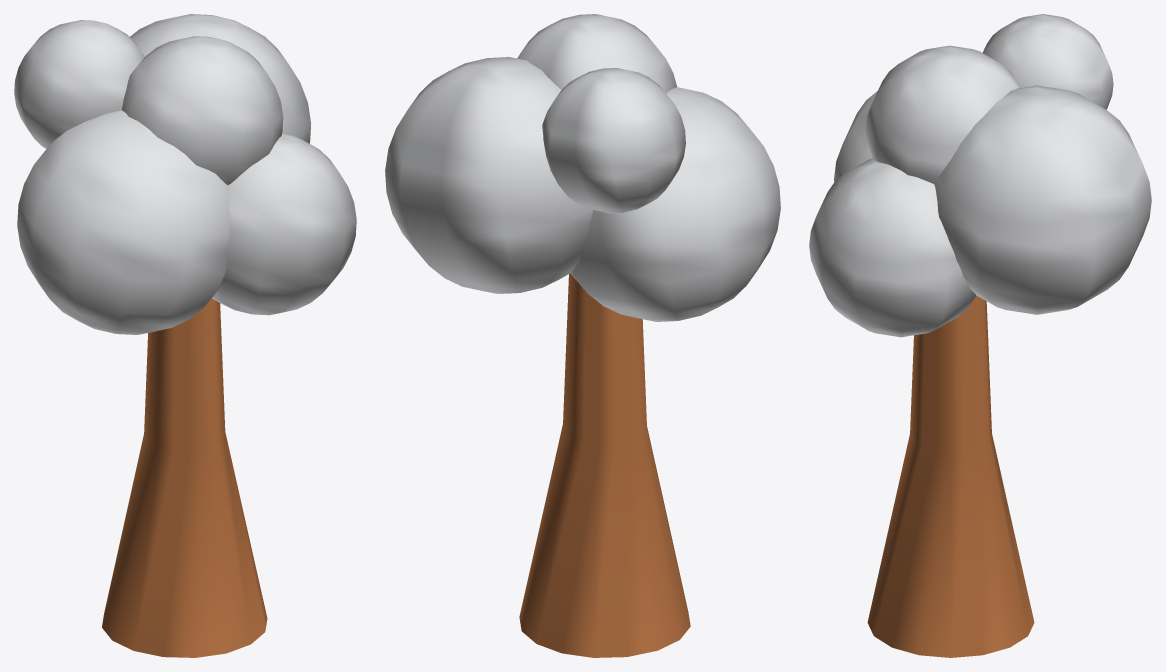
Rendered from ArbolAlgodon.fbx.
3 renders of one model, left to right at view 1: azimuth 30°, elevation 25°; view 2: azimuth 150°, elevation 25°; view 3: azimuth 270°, elevation 25°, orthographic. The views are drawn at different scales.
Visible parts, largest first — view 1: Circle.001; view 2: Circle.001; view 3: Circle.001.
Boxes of the visible parts, bbox=[...] form: Circle.001: bbox=[14, 14, 356, 657]; Circle.001: bbox=[385, 14, 780, 657]; Circle.001: bbox=[809, 14, 1151, 657].
Bounding box in the file's own units: 426 × 761 × 411.
